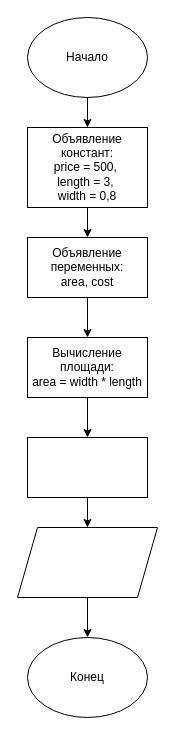
The diagram is 175 pixels wide and 735 high, and some of its shapes have lost their labels. Here are the shapes that lost their labels. From the top down, the centre of each, then its label:
At pixel 87 467: "Вычисление стоимости: cost = area * price".
At pixel 87 562: "Вывод результатов".
